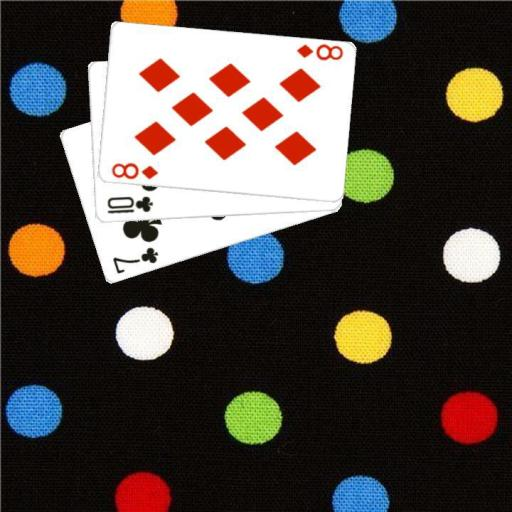10C: (103, 194, 154, 216)
7C: (110, 244, 160, 276)
8D: (108, 159, 159, 181), (293, 41, 344, 63)
